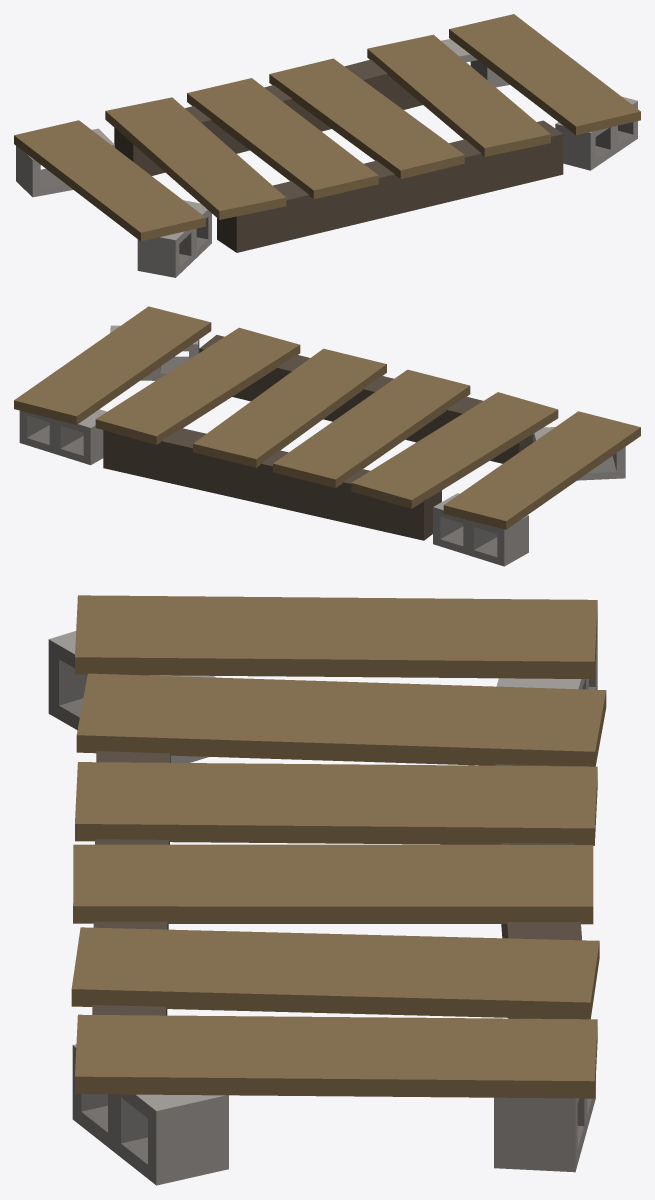
The model's file is AI_Prop_Walkway_01.fbx.
3 views of the same model, one above another, from view 1: azimuth 30°, elevation 25°; view 2: azimuth 150°, elevation 25°; view 3: azimuth 270°, elevation 25° (orthographic). The views are drawn at different scales.
Parts seen in each view (by area): view 1: AI_Prop_Walkway_01; view 2: AI_Prop_Walkway_01; view 3: AI_Prop_Walkway_01.
Part boxes in pixels (x1,y1,x2,y2): AI_Prop_Walkway_01: (14, 14, 640, 277); AI_Prop_Walkway_01: (14, 306, 640, 566); AI_Prop_Walkway_01: (48, 595, 606, 1185).
Size of the model in its own units: 4.96 by 0.4433 by 2.34.
